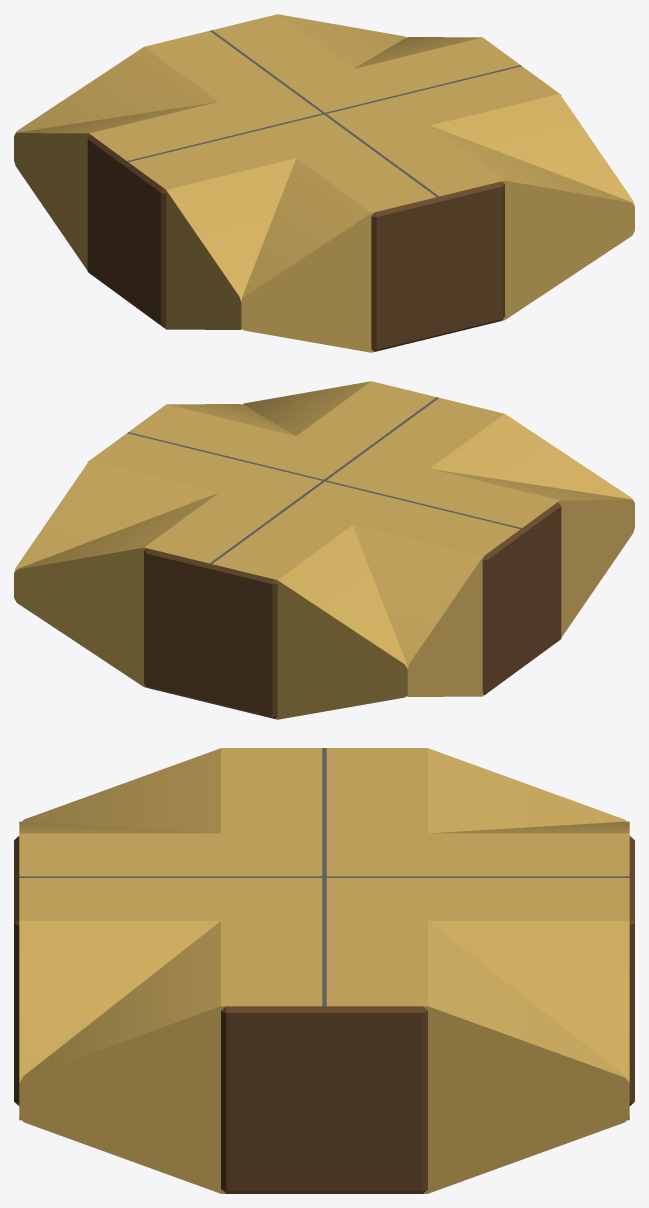
File: plast3x3.fbx
3 views of the same model, one above another, from view 1: azimuth 30°, elevation 25°; view 2: azimuth 150°, elevation 25°; view 3: azimuth 270°, elevation 25° (orthographic). The views are drawn at different scales.
Parts seen in each view (by area): view 1: Cube.001; view 2: Cube.001; view 3: Cube.001.
Part boxes in pixels (x1,y1,x2,y2): Cube.001: (14, 14, 634, 352); Cube.001: (14, 381, 634, 719); Cube.001: (14, 748, 634, 1193).
Size of the model in its own units: 6 by 2 by 6.
